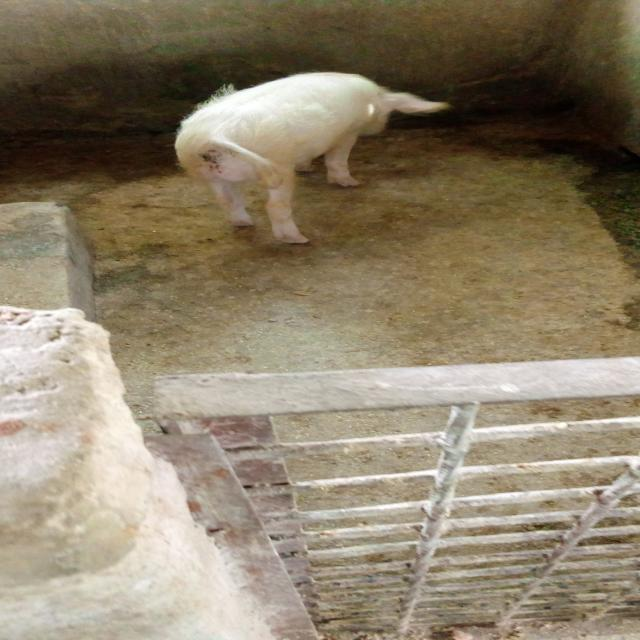pig: (109, 39, 565, 270)
